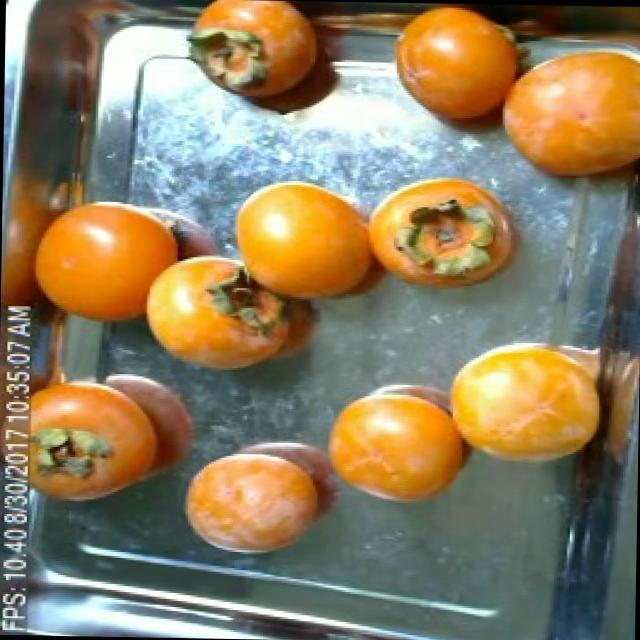Fruit: (211, 162, 412, 324), (430, 338, 630, 481), (168, 420, 358, 564), (373, 1, 561, 144), (172, 0, 368, 128), (312, 374, 485, 515), (483, 46, 640, 197)
